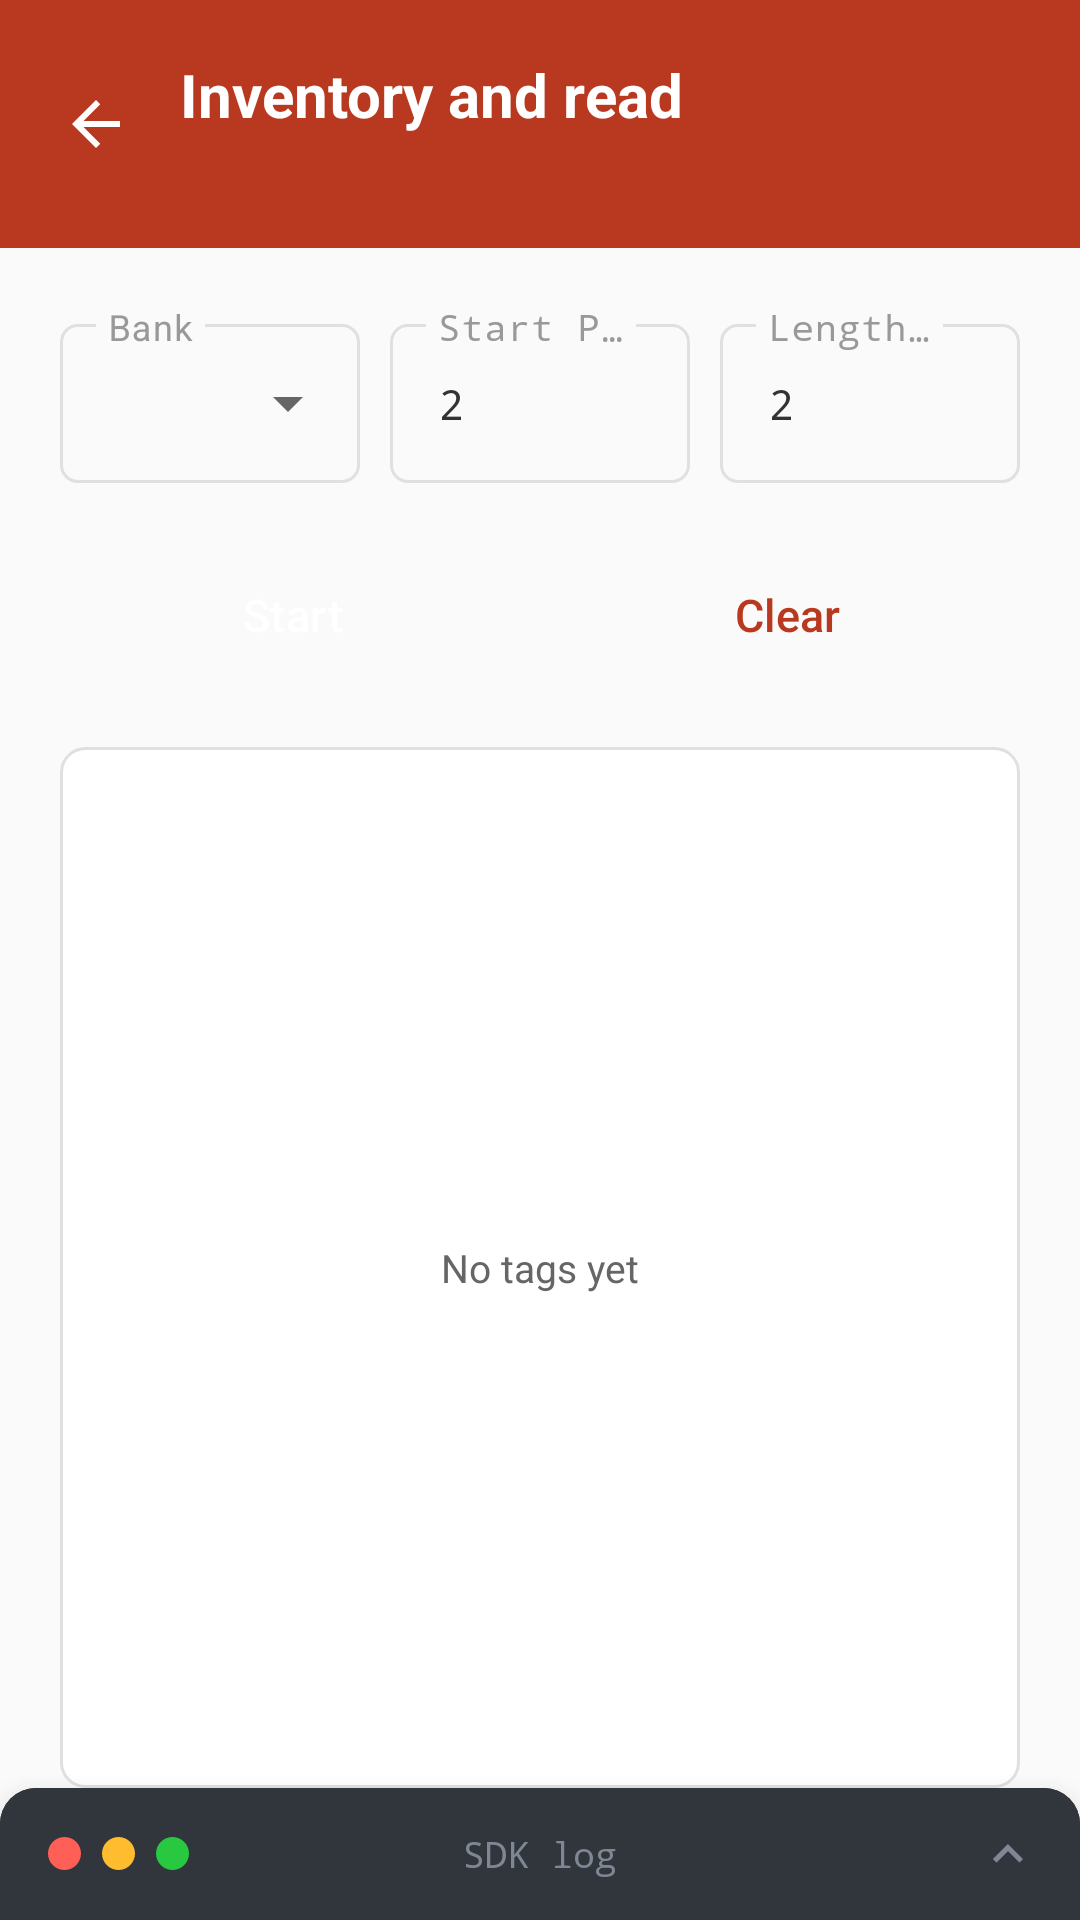

Point at icon controls on the screen. Image size 1080w x 1920h, points as point (x, y).
Back: point (96, 124)
